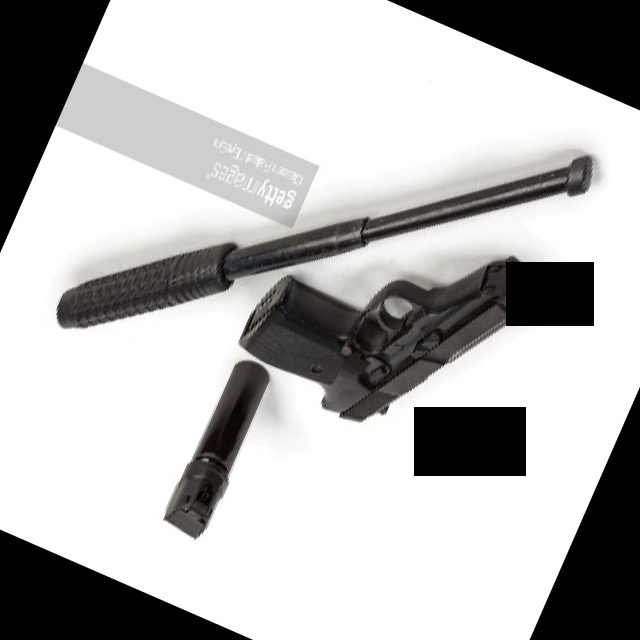gun: (216, 167, 555, 479)
